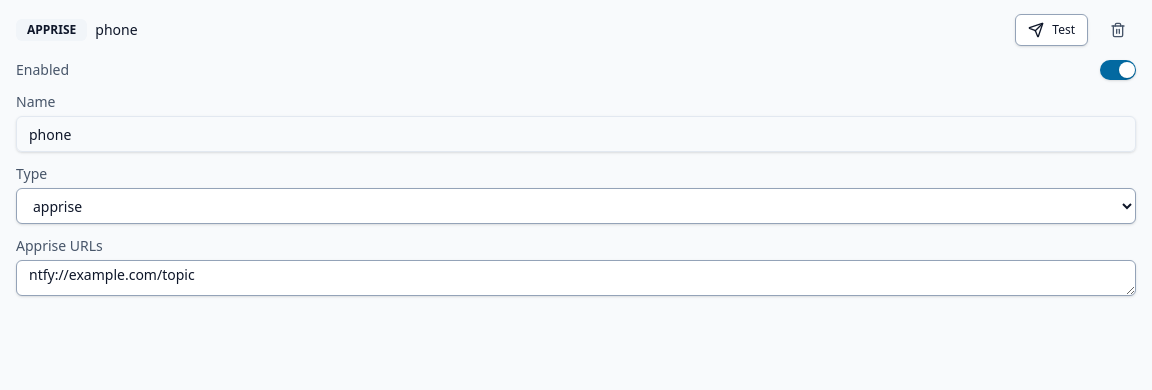
ChannelEditor › keeps prior-type fields (e.g. Apprise URLs) in state across a type flip-flop
Select "webhook" in the dropdown labelled "Type" at (576, 206), box [16,188,1136,224]
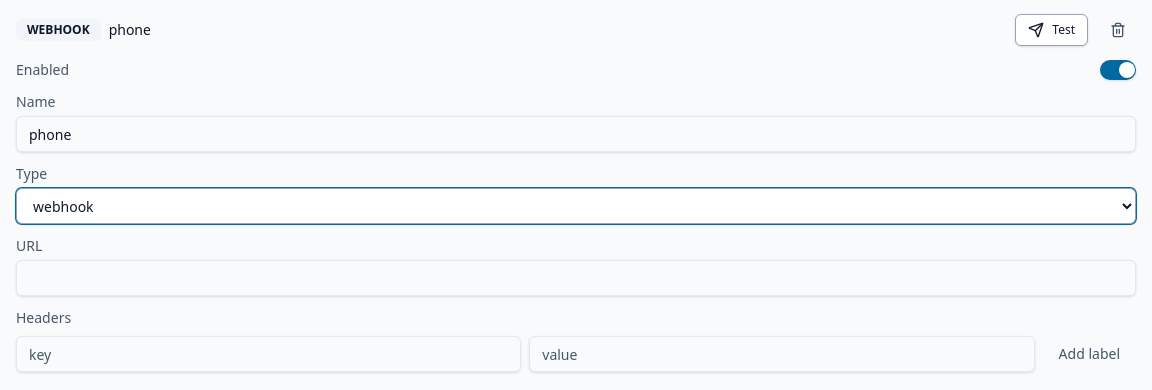
Expected: the label labelled "Apprise URLs" is gone
Select "apprise" in the dropdown labelled "Type" at (576, 206), box [16,188,1136,224]
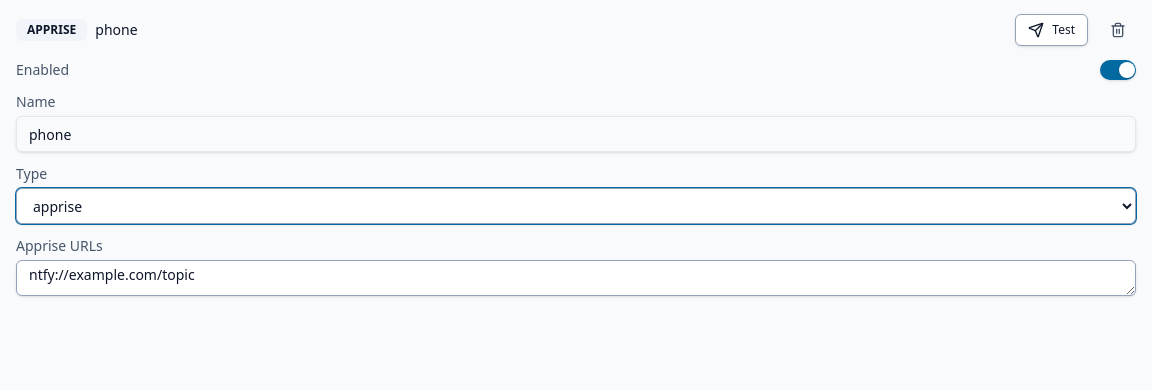
Expected: the text box labelled "Apprise URLs" holds "ntfy://example.com/topic", [16,260,1136,296]
